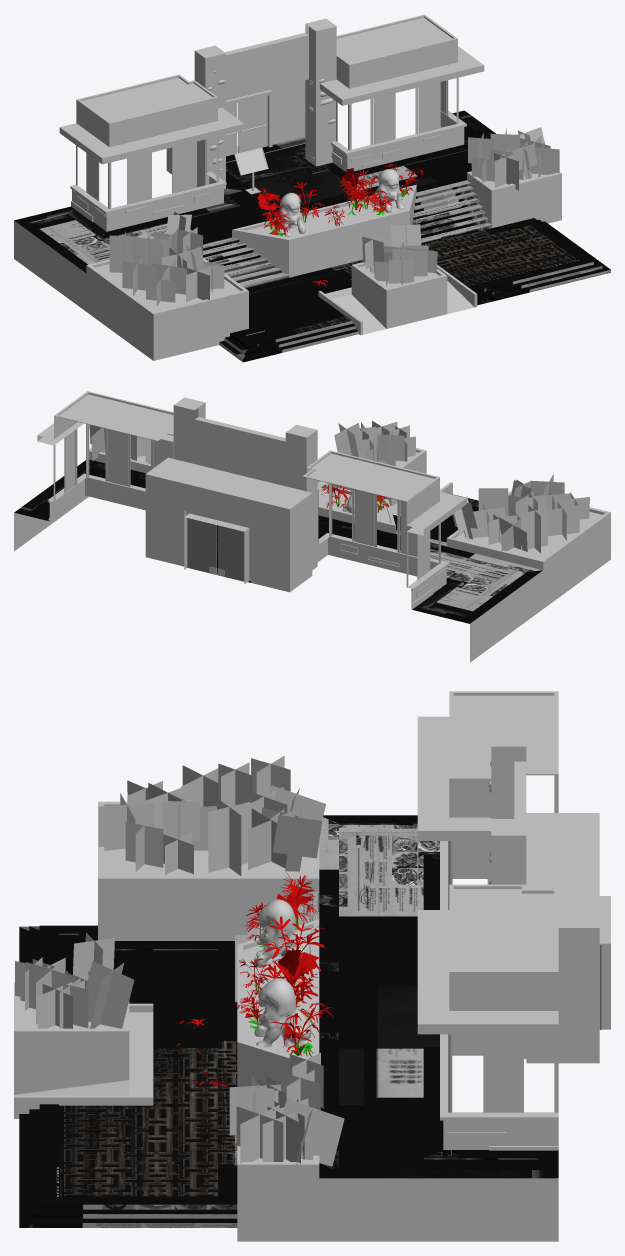
File: Chinese.fbx
3 views of the same model, one above another, from view 1: azimuth 30°, elevation 25°; view 2: azimuth 150°, elevation 25°; view 3: azimuth 270°, elevation 25° (orthographic). The views are drawn at different scales.
Visible parts, largest first — view 1: exterior, stairs, plants, door_R, statue2, menu, statue; view 2: exterior, stairs, plants, door_R, door_L; view 3: exterior, stairs, plants, statue2, statue.
Part boxes in pixels (bbox=[...]): exterior: bbox=[59, 14, 561, 360]; stairs: bbox=[14, 110, 610, 362]; plants: bbox=[109, 127, 559, 306]; door_R: bbox=[238, 96, 267, 153]; statue2: bbox=[370, 169, 404, 212]; menu: bbox=[234, 147, 268, 194]; statue: bbox=[274, 192, 305, 236]; exterior: bbox=[37, 391, 610, 609]; stairs: bbox=[14, 459, 543, 662]; plants: bbox=[89, 420, 589, 553]; door_R: bbox=[187, 518, 216, 574]; door_L: bbox=[217, 525, 244, 581]; exterior: bbox=[14, 691, 610, 1241]; stairs: bbox=[19, 815, 558, 1241]; plants: bbox=[15, 755, 344, 1166]; statue2: bbox=[254, 978, 311, 1047]; statue: bbox=[254, 899, 311, 967].
Size of the model in its own units: 1636 by 598 by 1128.
